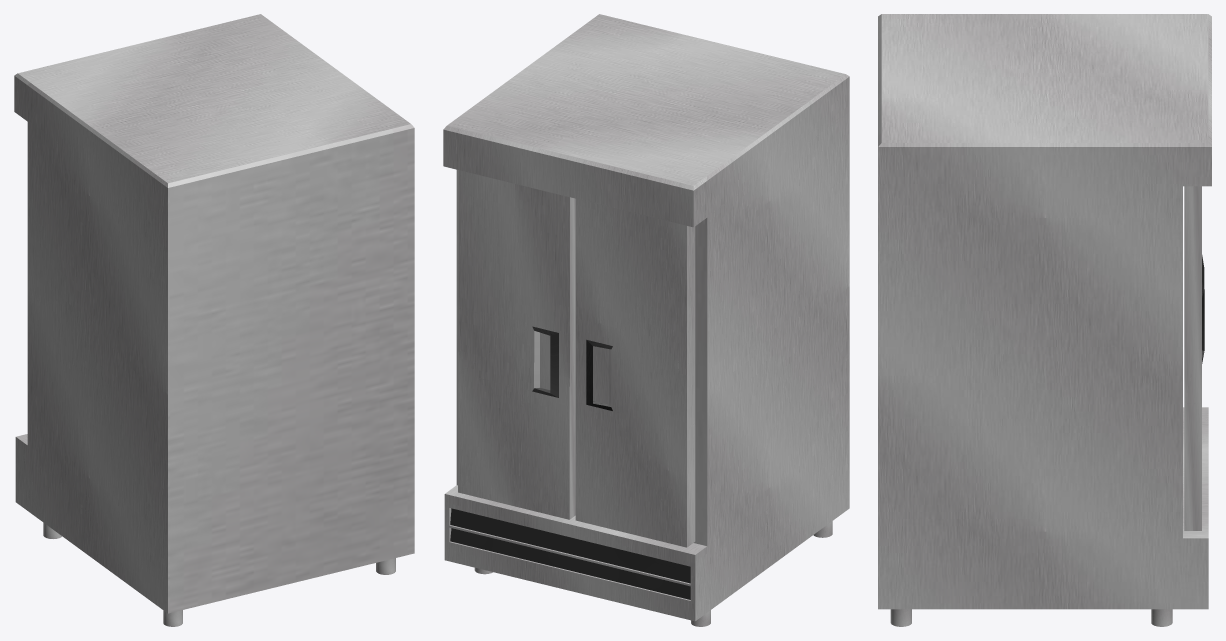
Rendered from Kitchen_Fridge_Unwrapped.fbx.
The picture shows the model from 3 angles, left to right: view 1: azimuth 30°, elevation 25°; view 2: azimuth 150°, elevation 25°; view 3: azimuth 270°, elevation 25°; orthographic projection. The views are drawn at different scales.
Visible parts, largest first — view 1: Box012; view 2: Box012, Box014, Box015; view 3: Box012, Box015.
Part boxes in pixels (box(x1,y1,x2,y2)): Box012: box(14, 14, 414, 613); Box012: box(443, 14, 849, 621); Box014: box(575, 199, 695, 547); Box015: box(458, 170, 575, 519); Box012: box(878, 14, 1211, 609); Box015: box(1184, 186, 1204, 530).
Size of the model in its own units: 85.01 by 148 by 91.7.
